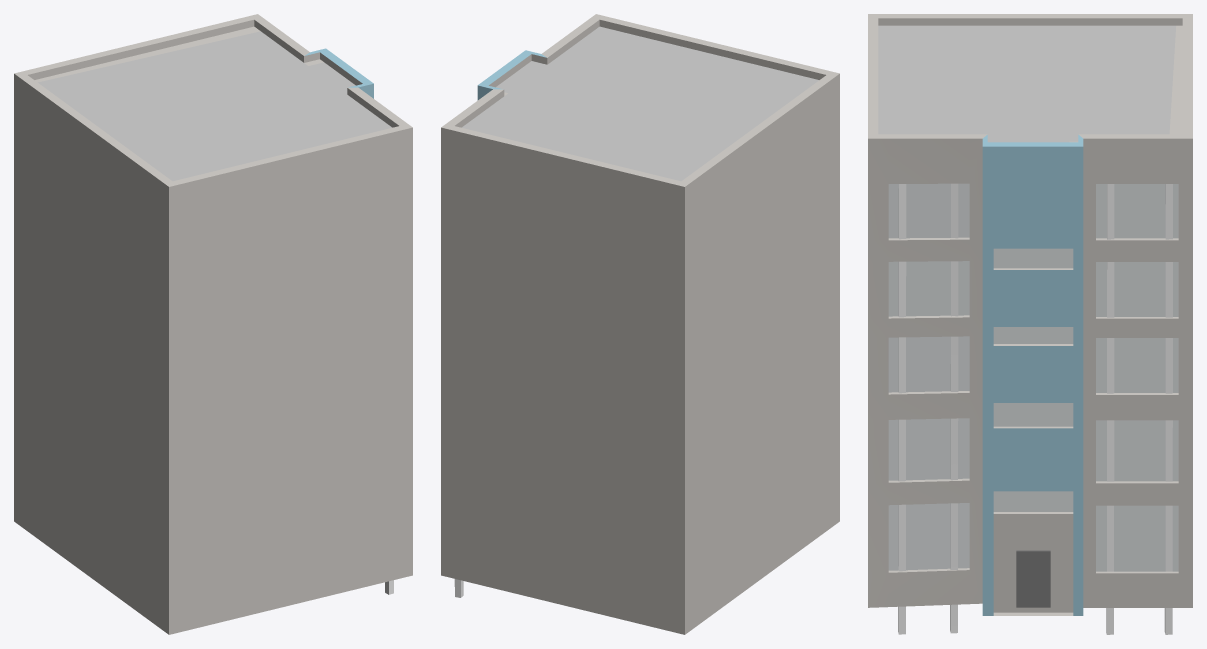
File: tile_house_2.glb
3 views of the same model, side by side, from view 1: azimuth 30°, elevation 25°; view 2: azimuth 150°, elevation 25°; view 3: azimuth 270°, elevation 25° (orthographic). The views are drawn at different scales.
Parts seen in each view (by area): view 1: Building; view 2: Building; view 3: Building.
Boxes of the visible parts, x1=… form: Building: x1=14, y1=14, x2=412, y2=634; Building: x1=441, y1=14, x2=839, y2=634; Building: x1=868, y1=14, x2=1192, y2=634.
Size of the model in its own units: 6.97 by 12.2 by 7.21.
